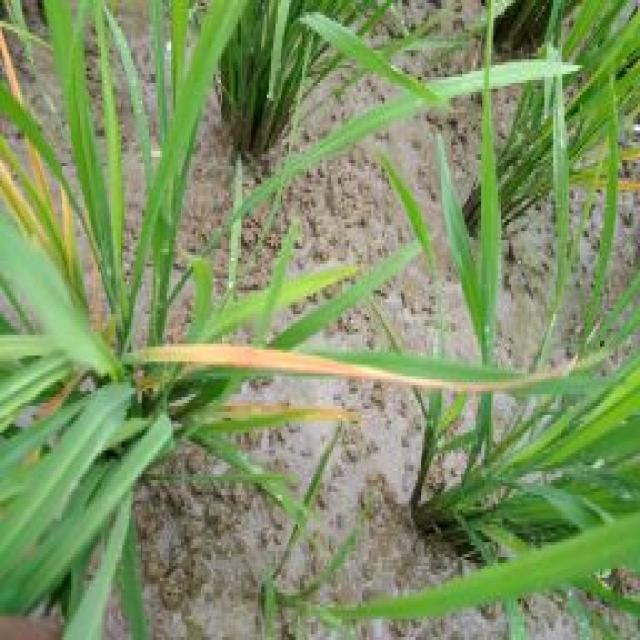Tungro: (129, 303, 599, 404), (0, 8, 114, 338)
